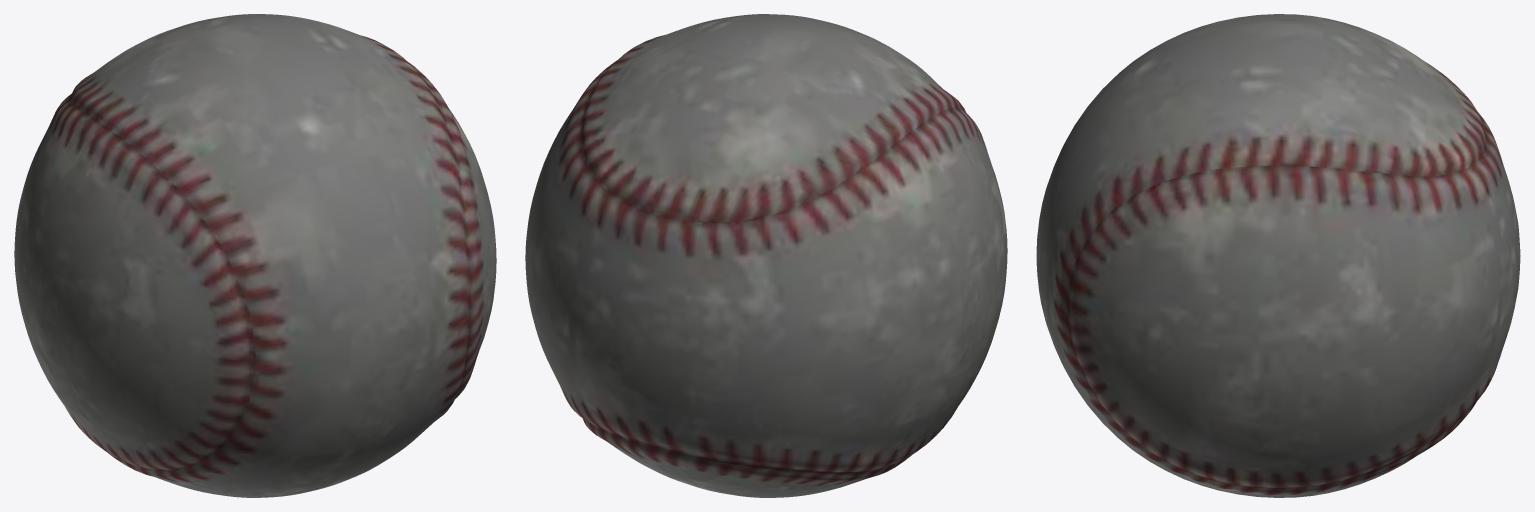
Rendered from baseball_01.glb.
3 renders of one model, left to right at view 1: azimuth 30°, elevation 25°; view 2: azimuth 150°, elevation 25°; view 3: azimuth 270°, elevation 25°, orthographic.
Parts seen in each view (by area): view 1: baseball_01; view 2: baseball_01; view 3: baseball_01.
Boxes of the visible parts, left/top/right/bottom form: baseball_01: left=14, top=14, right=496, bottom=497; baseball_01: left=525, top=14, right=1007, bottom=497; baseball_01: left=1036, top=14, right=1520, bottom=497.
Size of the model in its own units: 0.0735 by 0.0753 by 0.0752.
Materials: 1 (1 with a texture image).
